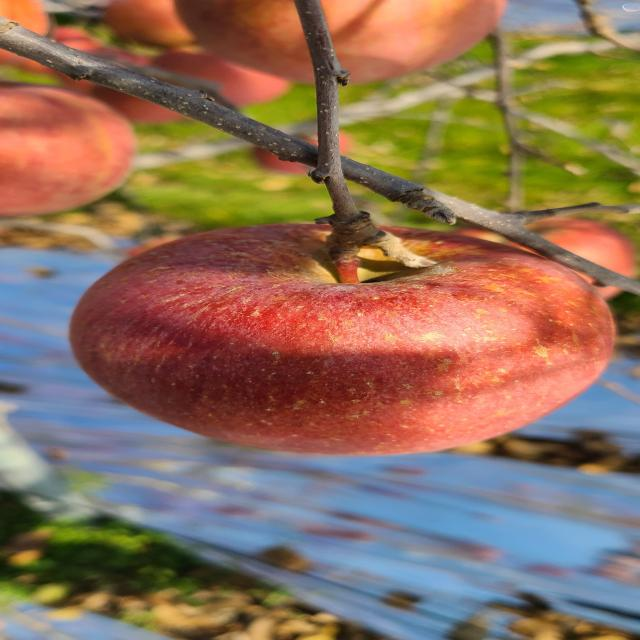fresh: (55, 216, 639, 462)
